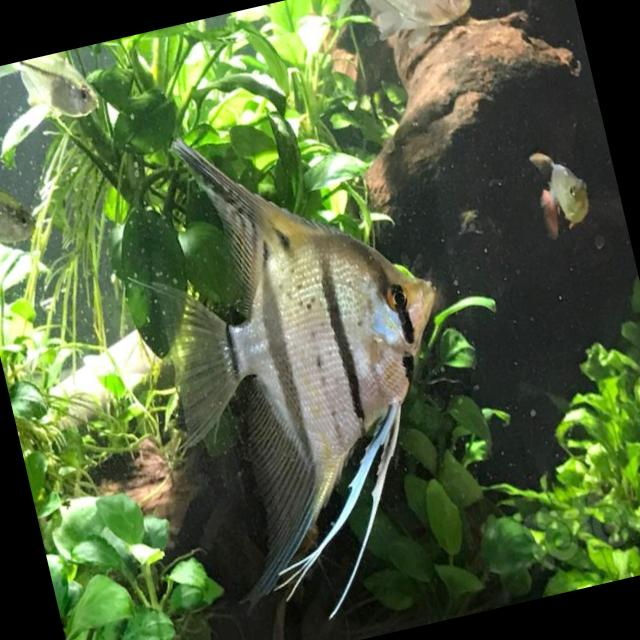AngelFish: (120, 91, 500, 626)
